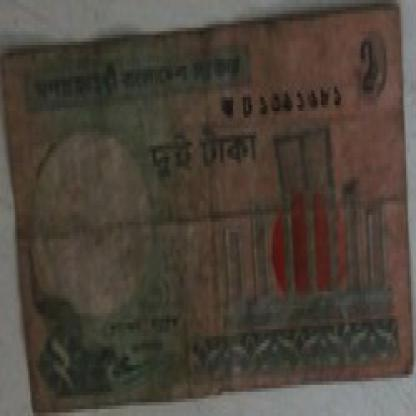two taka: (30, 326, 83, 392), (348, 28, 386, 97)
